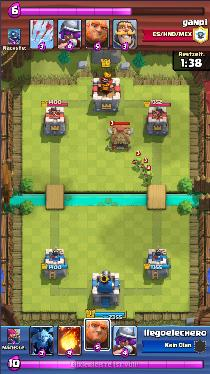enemy_goblin_hut: (110, 126, 131, 150)
enemy_spear_goblin: (144, 172, 155, 185), (132, 156, 142, 170), (141, 163, 149, 174)
